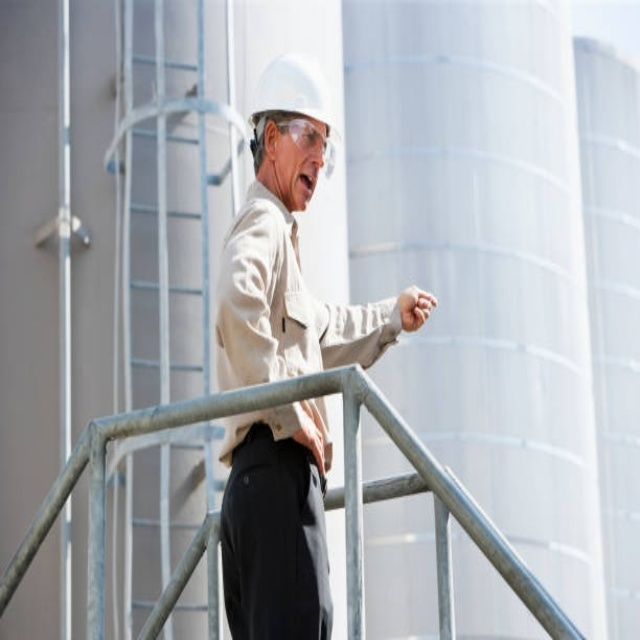Gafas: (261, 117, 336, 180)
Sin_guantes: (290, 408, 328, 472), (397, 281, 439, 333)
Sin_mascara: (288, 166, 320, 204)
